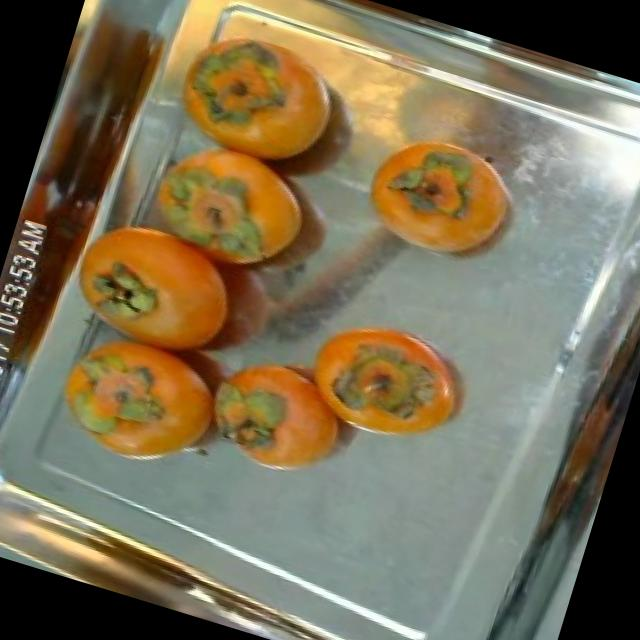Fruit: (31, 307, 252, 496), (333, 118, 540, 286), (281, 294, 488, 458)
